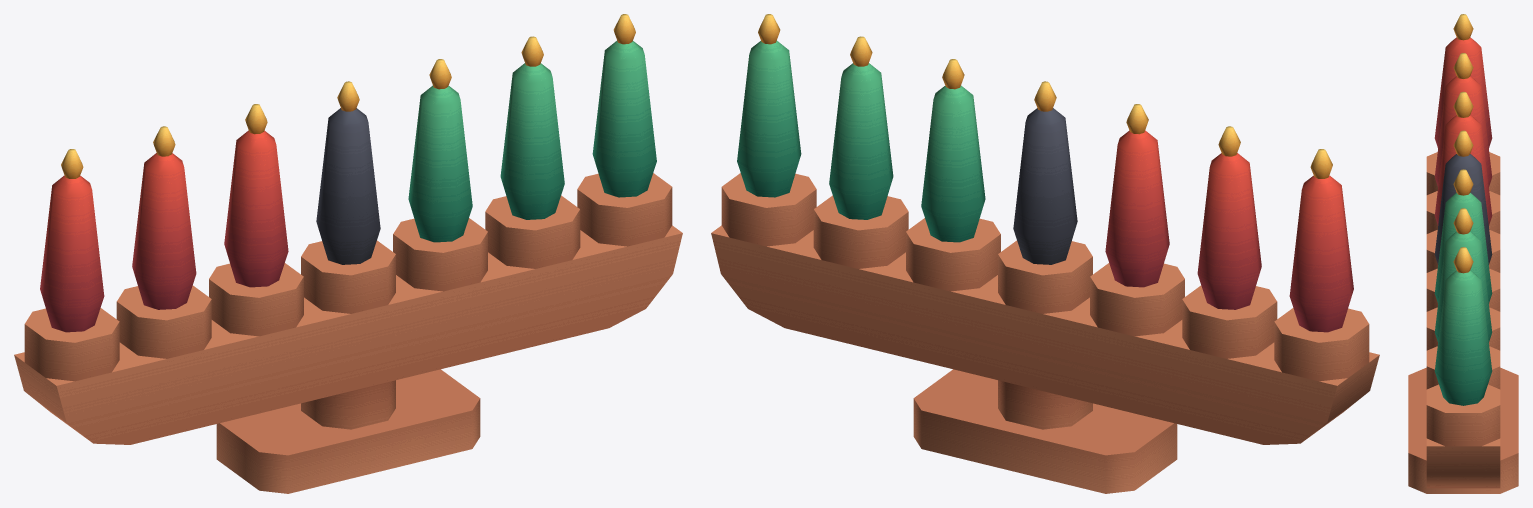
The model's file is kwanzaa-kinara.glb.
3 views of the same model, side by side, from view 1: azimuth 30°, elevation 25°; view 2: azimuth 150°, elevation 25°; view 3: azimuth 270°, elevation 25° (orthographic). The views are drawn at different scales.
Visible parts, largest first — view 1: kwanzaa-kinara; view 2: kwanzaa-kinara; view 3: kwanzaa-kinara.
Boxes of the visible parts, x1,y1,x2,y2 form: kwanzaa-kinara: (14,14,682,493); kwanzaa-kinara: (711,14,1379,493); kwanzaa-kinara: (1408,14,1518,493).
Size of the model in its own units: 2.55 by 1.42 by 0.45.
Materials: 1 (1 with a texture image).
